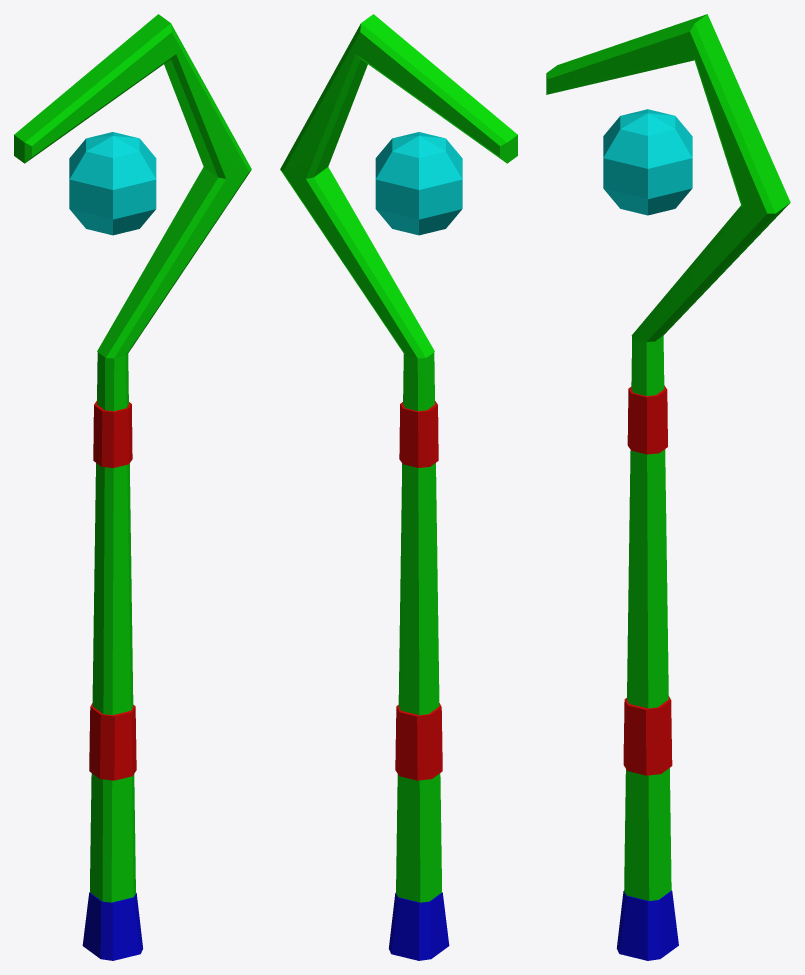
Rendered from staff.fbx.
3 views of the same model, side by side, from view 1: azimuth 30°, elevation 25°; view 2: azimuth 150°, elevation 25°; view 3: azimuth 330°, elevation 25° (orthographic). The views are drawn at different scales.
Visible parts, largest first — view 1: pCube7; view 2: pCube7; view 3: pCube7.
Boxes of the visible parts, box(x1,y1,x2,y2) form: pCube7: box(14, 14, 251, 960); pCube7: box(280, 14, 517, 960); pCube7: box(546, 14, 790, 960).
Bounding box in the file's own units: 29.4 × 114 × 9.83.
